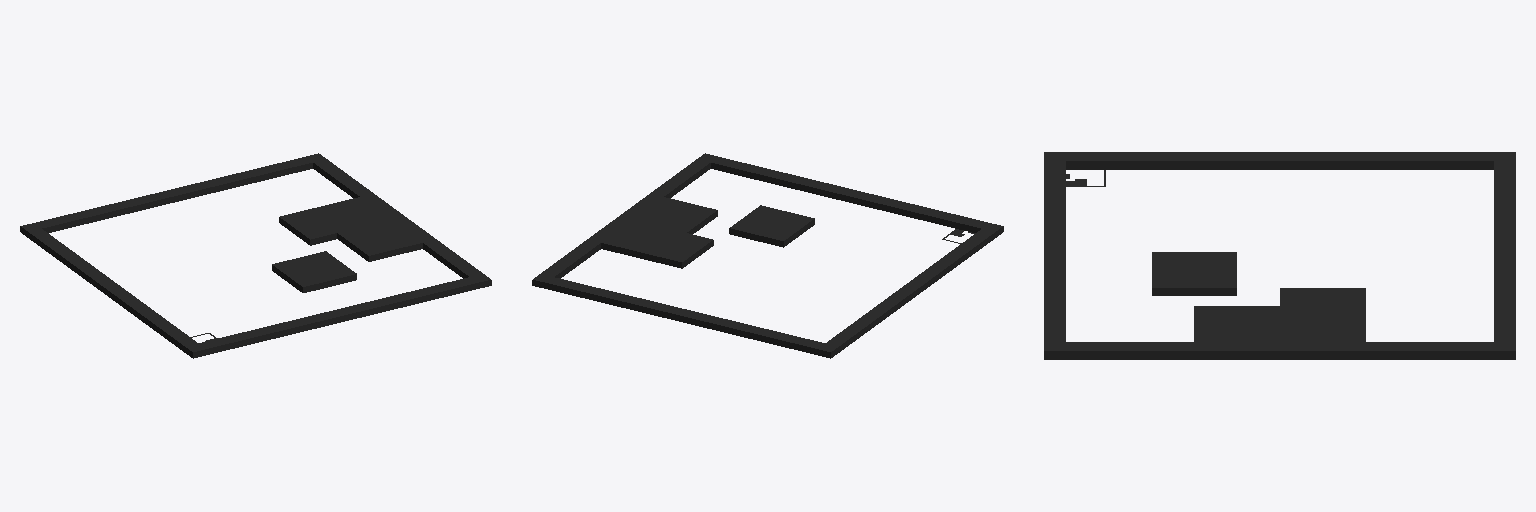
The robot description file, URDF, robot "Room37":
<robot name="Room37">
    <link name="_name">
        <visual> 
            <origin rpy="0.0 0.0 0.0" xyz="-0.6067932447361029 -0.4831458514993711 -0.009999999999999997" />
                <geometry>
                    <mesh filename="Room37/Room37.obj" scale="1 1 0.1" />
                </geometry>

            <material name="black">
                <color rgba="0.2 0.2 0.2 0.95" />
            </material>
        </visual>

       <collision concave="yes" name="collision_0">
            <origin rpy="0.0 0.0 0.0" xyz="-0.6067932447361029 -0.4831458514993711 -0.009999999999999997" />
            <geometry>
                <mesh filename="Room37/Room37_vhacd.obj" scale="1 1 0.1" />
            </geometry>
        </collision>

        <inertial> 
            <mass value="0" />
            <inertia ixx="0" ixy="0" ixz="0" iyy="0" iyz="0" izz="0" />
        </inertial> 
    </link>
</robot>

--- Facts derived from the render (not from the file) ---
Views: 3 orthographic renders of the robot side by side, from view 1: azimuth 30°, elevation 25°; view 2: azimuth 150°, elevation 25°; view 3: azimuth 270°, elevation 25°.
Robot: Room37 — 1 links, 0 joints (none); root link _name; default pose: all joints at 0.
Links seen in each view (by area): view 1: _name; view 2: _name; view 3: _name.
Link boxes in pixels (box(x1,y1,x2,y2)): _name: box(20, 153, 491, 358); _name: box(532, 153, 1003, 358); _name: box(1044, 152, 1515, 359).
Size in the robot's own frame: 1 by 1 by 0.02 metres.
Meshes: 1 distinct files referenced, 1 mesh visuals loaded (1 OBJ).